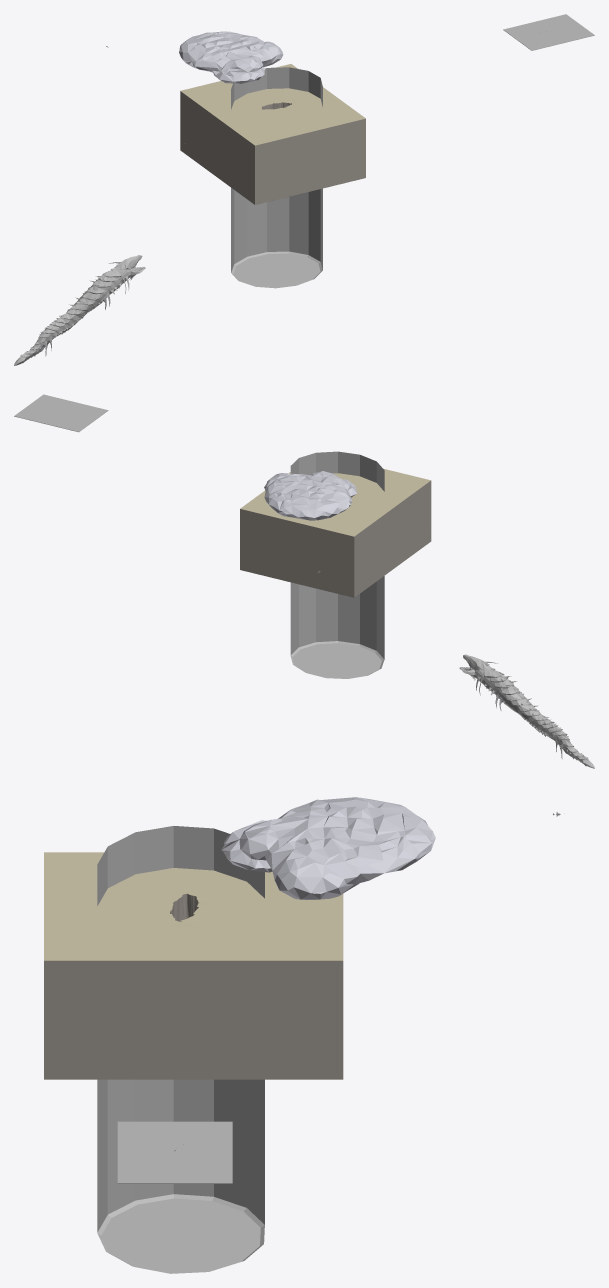
Rendered from BstBaked.glb.
3 views of the same model, one above another, from view 1: azimuth 30°, elevation 25°; view 2: azimuth 150°, elevation 25°; view 3: azimuth 270°, elevation 25° (orthographic). The views are drawn at different scales.
Visible parts, largest first — view 1: BstBaked_terrain, BstBaked_DCylinderCheapF, BstBaked_cloud, BstBaked_CharSkyLeviathan, BstBaked_Cube; view 2: BstBaked_terrain, BstBaked_DCylinderCheapF, BstBaked_cloud, BstBaked_CharSkyLeviathan, BstBaked_Cube; view 3: BstBaked_terrain, BstBaked_DCylinderCheapF, BstBaked_cloud, BstBaked_Cube.
Part boxes in pixels (x1,y1,x2,y2): BstBaked_terrain: [180, 64, 365, 204]; BstBaked_DCylinderCheapF: [231, 67, 322, 288]; BstBaked_cloud: [179, 31, 283, 83]; BstBaked_CharSkyLeviathan: [14, 255, 145, 365]; BstBaked_Cube: [503, 14, 594, 50]; BstBaked_terrain: [240, 468, 431, 597]; BstBaked_DCylinderCheapF: [290, 451, 384, 678]; BstBaked_cloud: [264, 471, 356, 520]; BstBaked_CharSkyLeviathan: [459, 654, 594, 768]; BstBaked_Cube: [14, 394, 108, 432]; BstBaked_terrain: [44, 852, 343, 1079]; BstBaked_DCylinderCheapF: [97, 826, 264, 1273]; BstBaked_cloud: [221, 797, 435, 899]; BstBaked_Cube: [117, 1121, 232, 1183].
Size of the model in its own units: 1672 by 683 by 675.
